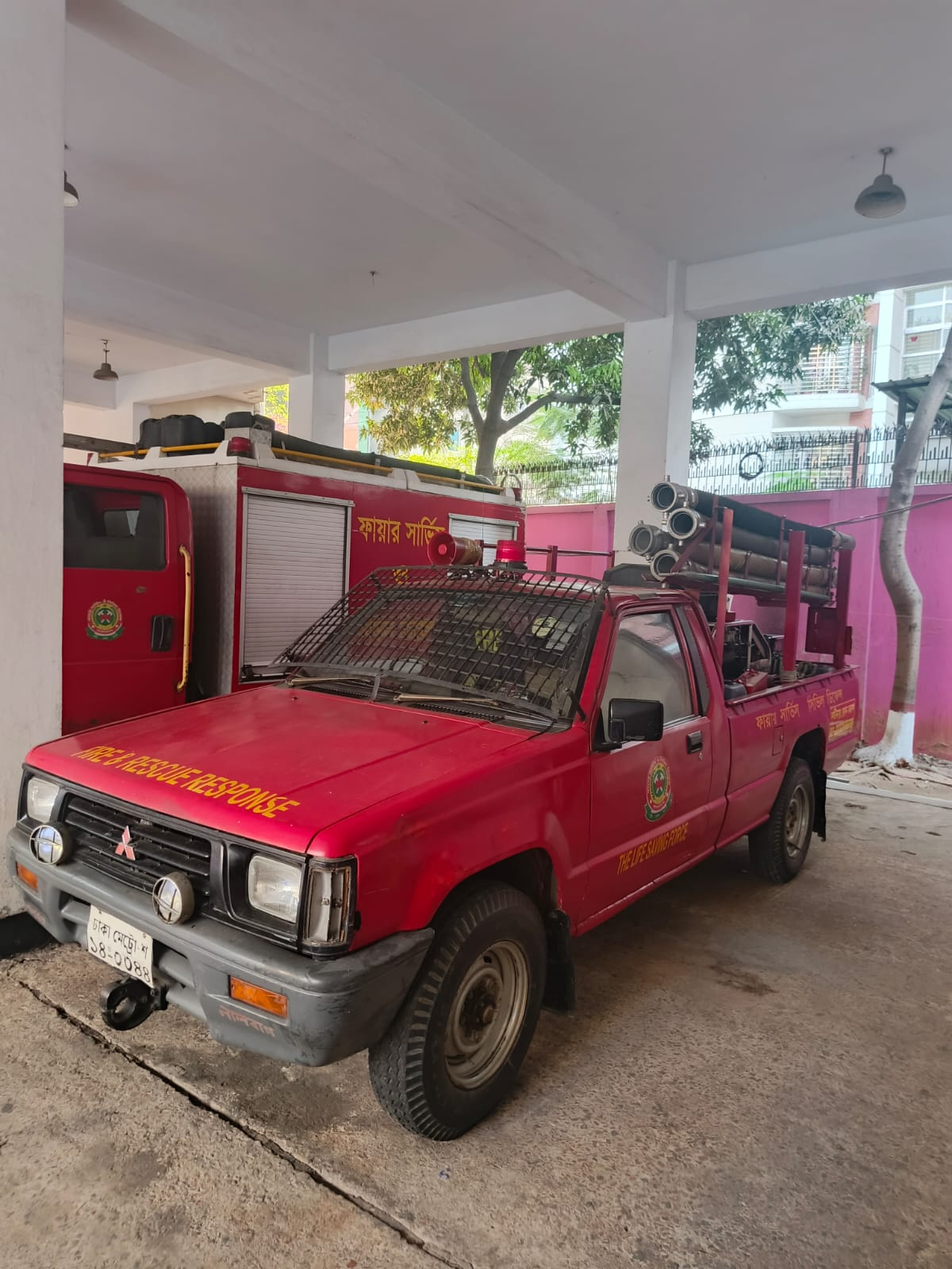Fire truck: (16, 477, 881, 1150), (63, 430, 542, 639)
